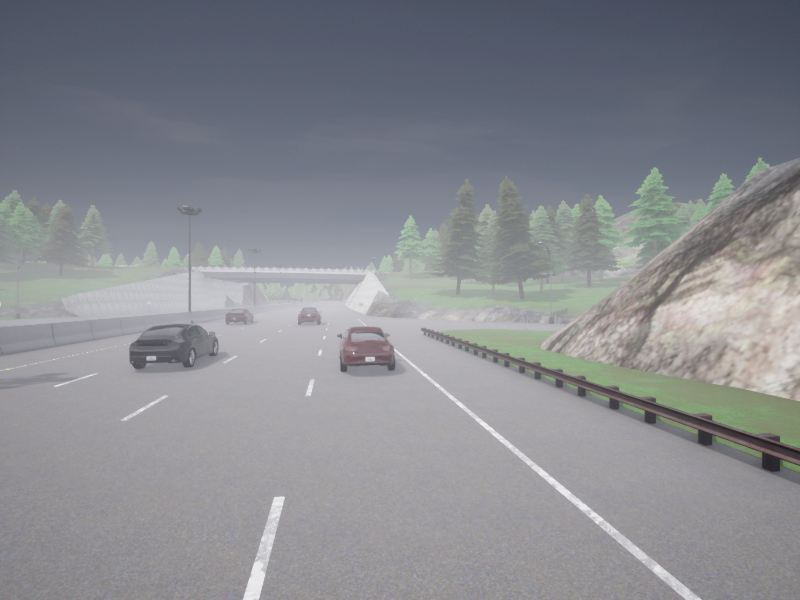vehicle: (129, 323, 218, 368), (337, 326, 394, 371), (225, 309, 253, 324), (298, 307, 321, 324)
